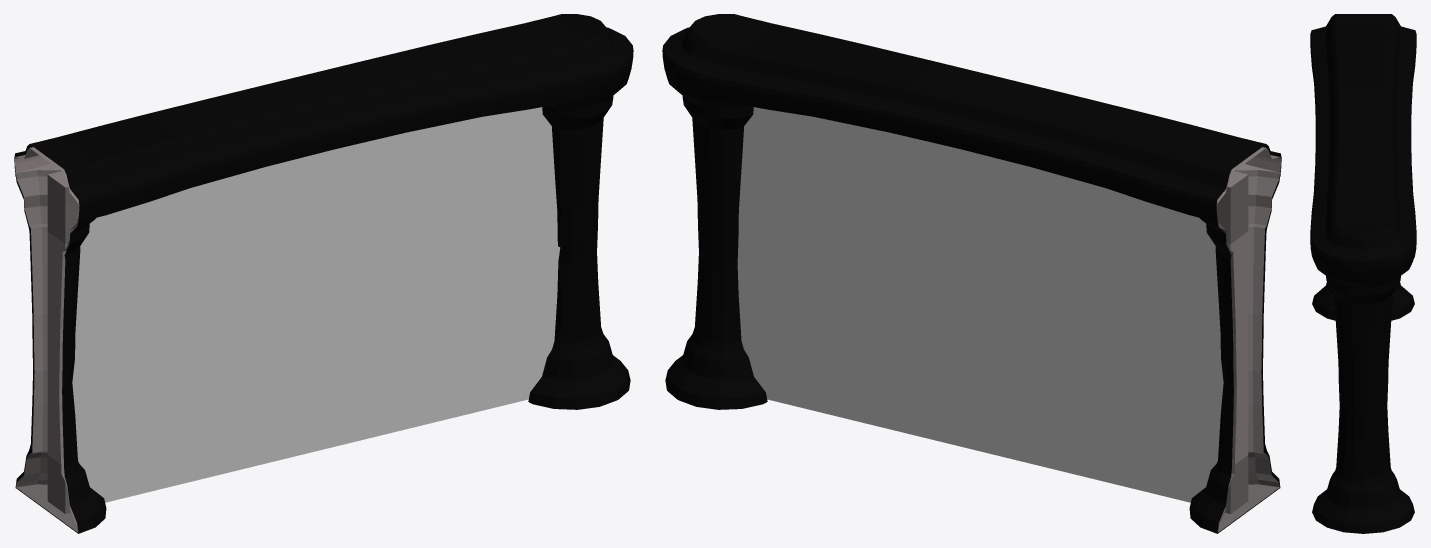
File: wall_transparent_end.fbx
The picture shows the model from 3 angles, left to right: view 1: azimuth 30°, elevation 25°; view 2: azimuth 150°, elevation 25°; view 3: azimuth 270°, elevation 25°; orthographic projection. The views are drawn at different scales.
Visible parts, largest first — view 1: wall_transparent_end_glass, wall_transparent_end_outline, wall_transparent_end; view 2: wall_transparent_end_glass, wall_transparent_end_outline, wall_transparent_end; view 3: wall_transparent_end_outline.
Part boxes in pixels (x1,y1,x2,y2): wall_transparent_end_glass: [72, 107, 560, 502]; wall_transparent_end_outline: [14, 14, 633, 533]; wall_transparent_end: [15, 147, 79, 532]; wall_transparent_end_glass: [737, 107, 1223, 502]; wall_transparent_end_outline: [662, 14, 1281, 533]; wall_transparent_end: [1216, 147, 1280, 532]; wall_transparent_end_outline: [1310, 14, 1416, 533].
Bounding box in the file's own units: 943 × 560 × 183.
